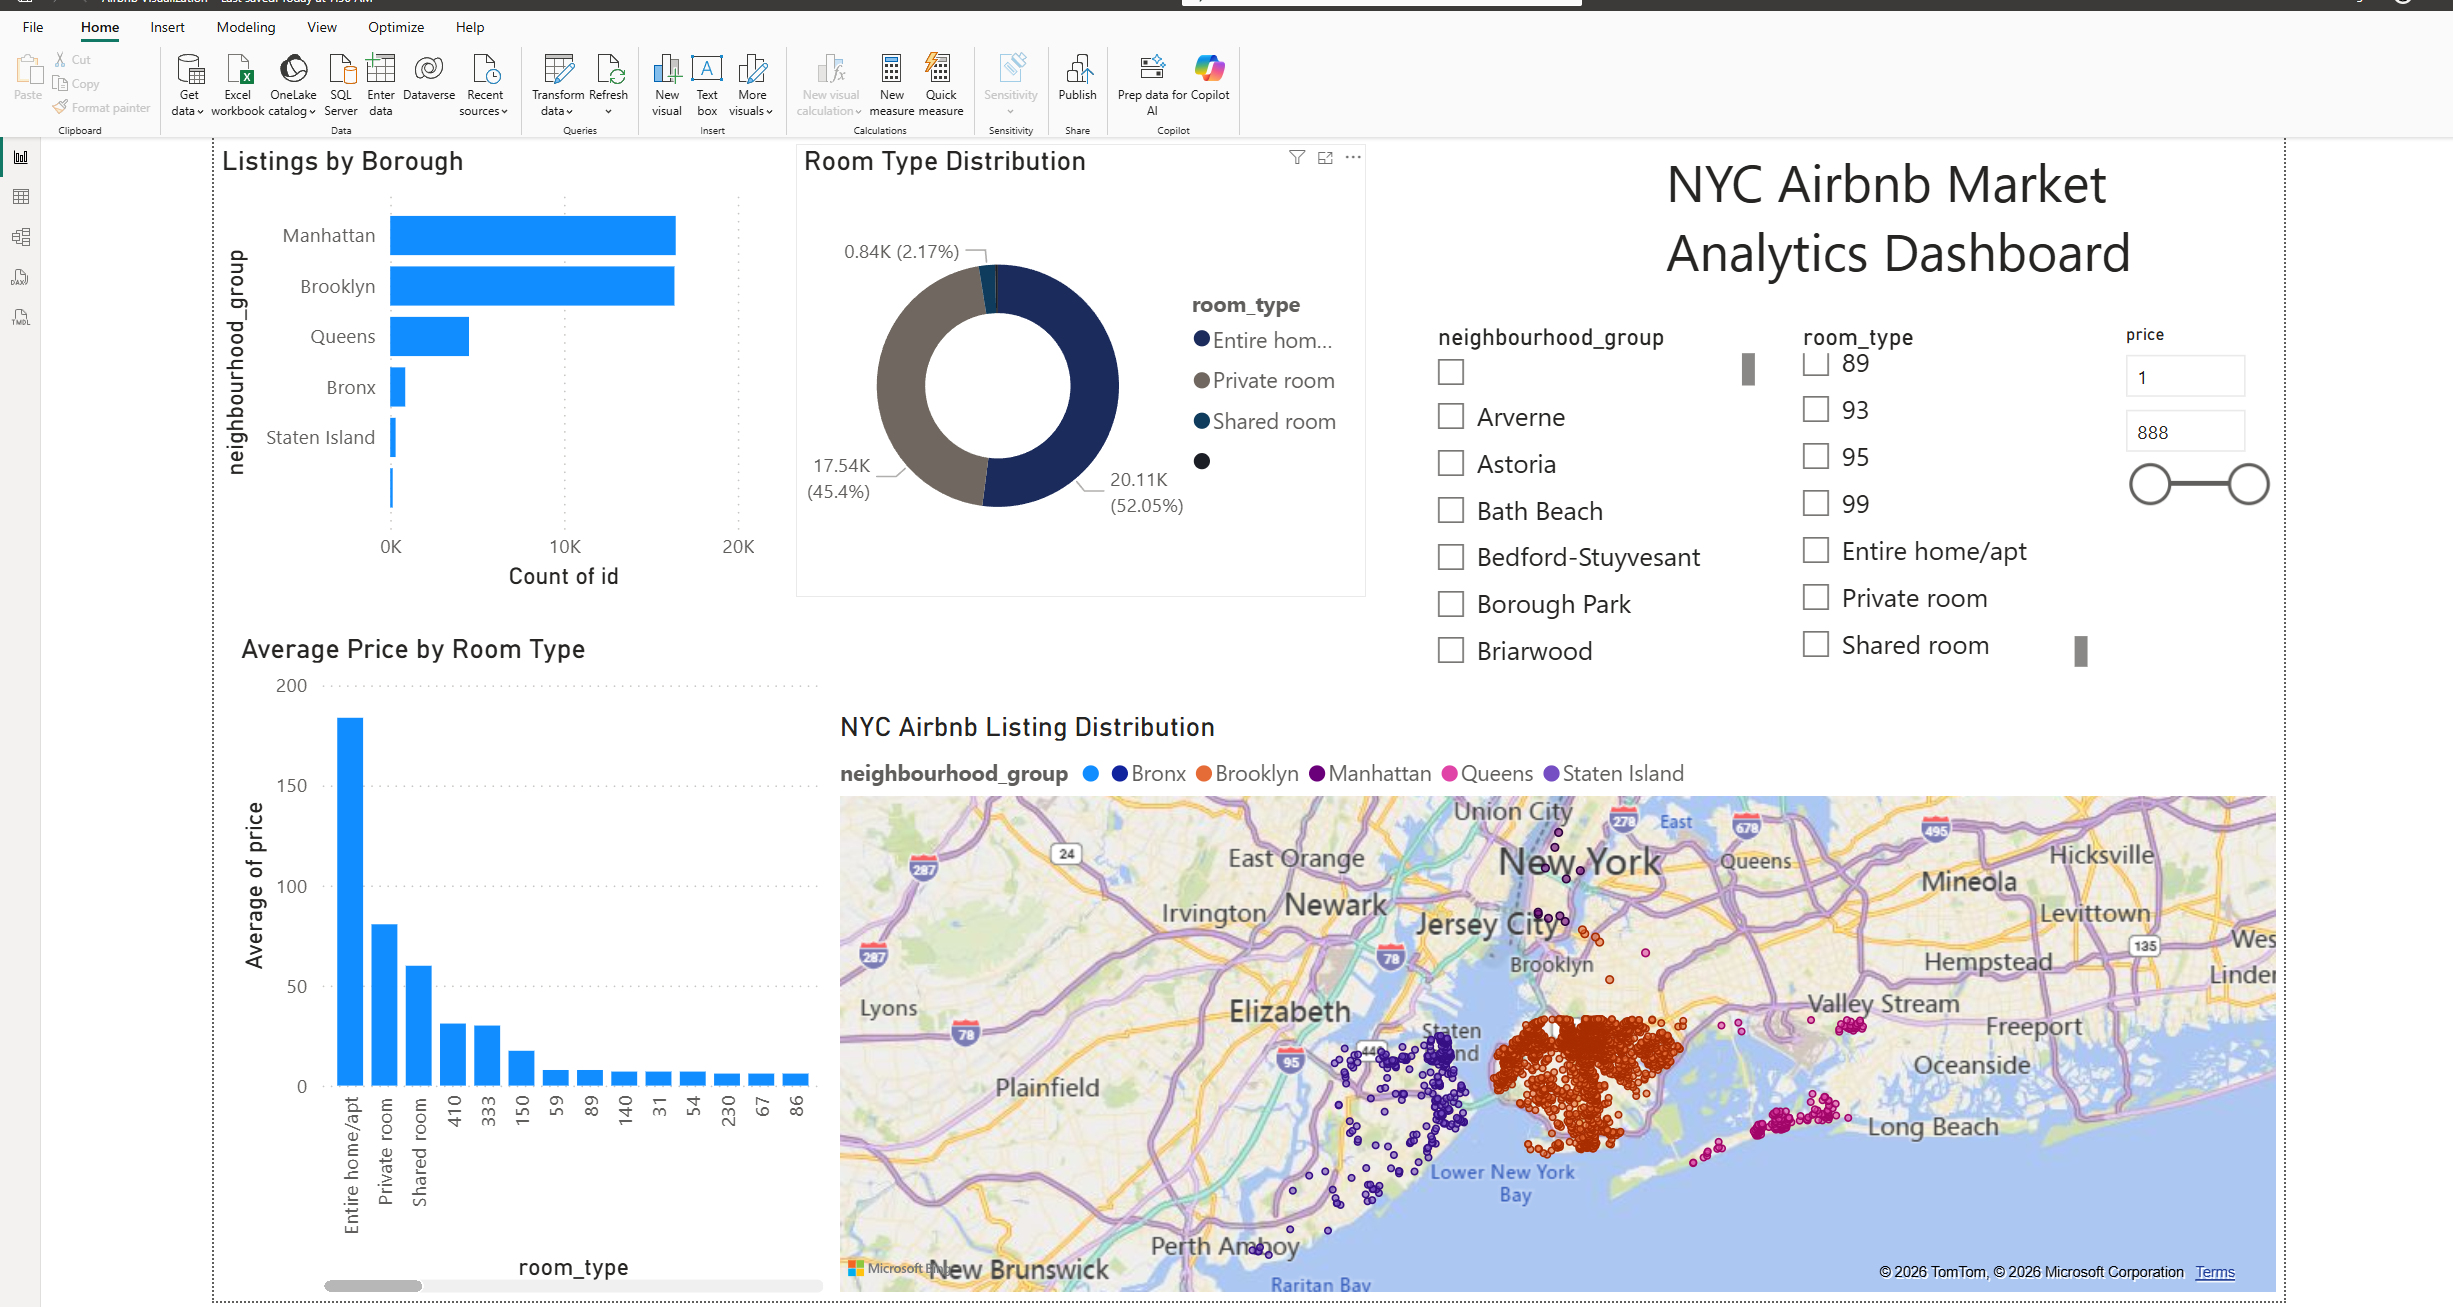

This screenshot's page, from the dashboard's own definition file:
{"tool":"powerbi","page":{"name":"Page 1","canvas":[1280,720],"ordinal":0},"visuals":[{"type":"donutChart","title":"Room Type Distribution","fields":{"Category":["airbnb_powerbi.room_type"],"Y":["CountNonNull(airbnb_powerbi.id)"]},"box":[359.9,4.6,352.7,280.1],"z":0},{"type":"clusteredBarChart","title":"Listings by Borough","fields":{"Category":["airbnb_powerbi.neighbourhood_group"],"Y":["CountNonNull(airbnb_powerbi.id)"]},"box":[0,4.6,339,280.1],"z":1000},{"type":"clusteredColumnChart","title":"Average Price by Room Type","fields":{"Category":["airbnb_powerbi.room_type"],"Y":["Avg(airbnb_powerbi.price)"]},"box":[11.8,306.3,370.4,413.6],"z":2000},{"type":"map","title":"NYC Airbnb Listing Distribution","fields":{"Y":["airbnb_powerbi.latitude"],"X":["airbnb_powerbi.longitude"],"Series":["airbnb_powerbi.neighbourhood_group"],"Size":["CountNonNull(airbnb_powerbi.id)"]},"box":[382.2,354.7,897.8,365.2],"z":3000},{"type":"slicer","fields":{"Values":["airbnb_powerbi.neighbourhood_group"]},"box":[744,110.6,214,227.7],"z":3001},{"type":"slicer","fields":{"Values":["airbnb_powerbi.price"]},"box":[1169.4,110.6,110.6,222.5],"z":3003},{"type":"textbox","box":[893.3,0,386.7,110.6],"z":3004},{"type":"slicer","fields":{"Values":["airbnb_powerbi.room_type"]},"box":[969.8,110.6,194.4,222.5],"z":3005}]}

Visuals, with their boxes on the page's 1280x720 design canvas (x1, y1, x2, y2). These are canvas units, not pixel positions in the 2453x1307 screenshot, which may show the page scaled, cropped or inside an application window:
"Room Type Distribution" donutChart: <region>360, 5, 713, 285</region>
"Listings by Borough" clusteredBarChart: <region>0, 5, 339, 285</region>
"Average Price by Room Type" clusteredColumnChart: <region>12, 306, 382, 720</region>
"NYC Airbnb Listing Distribution" map: <region>382, 355, 1280, 720</region>
slicer - airbnb_powerbi.neighbourhood_group: <region>744, 111, 958, 338</region>
slicer - airbnb_powerbi.price: <region>1169, 111, 1280, 333</region>
textbox: <region>893, 0, 1280, 111</region>
slicer - airbnb_powerbi.room_type: <region>970, 111, 1164, 333</region>
